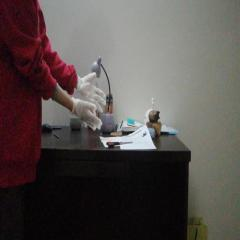gloved: (72, 98, 102, 131), (78, 73, 107, 105)
